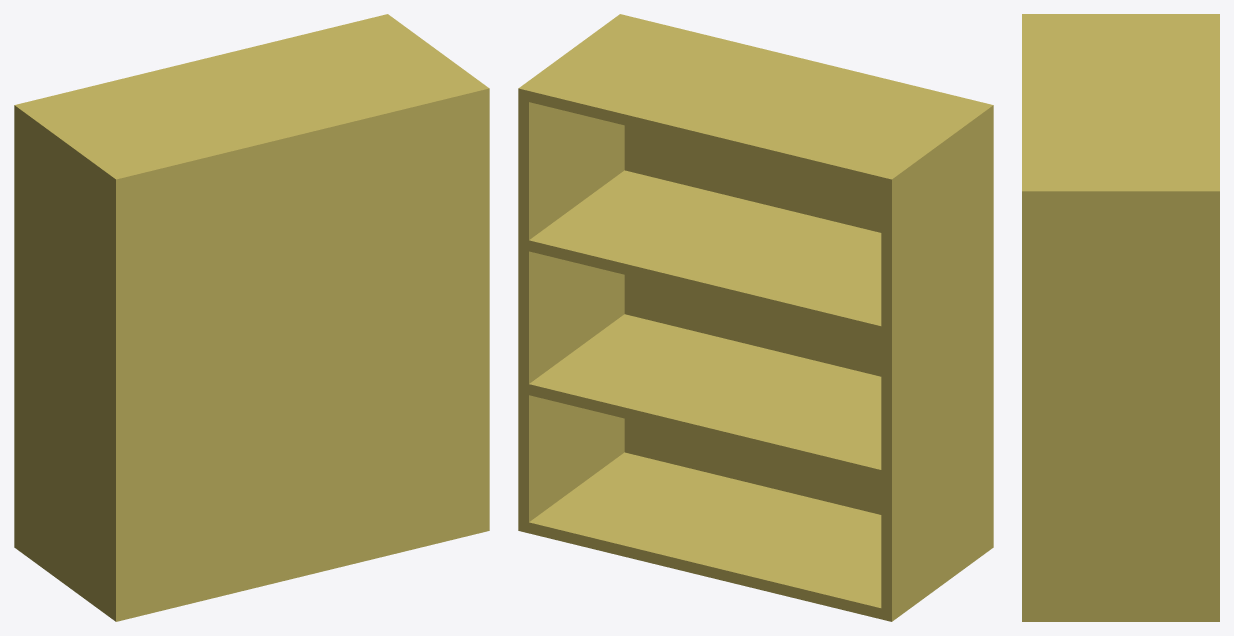
Rendered from openShelf.dae.
The picture shows the model from 3 angles, left to right: view 1: azimuth 30°, elevation 25°; view 2: azimuth 150°, elevation 25°; view 3: azimuth 270°, elevation 25°; orthographic projection. The views are drawn at different scales.
Visible parts, largest first — view 1: openShelf; view 2: openShelf, openShelfCube; view 3: openShelf.
Part boxes in pixels (<box>): openShelf: <box>14,14,489,621</box>; openShelf: <box>518,14,993,621</box>; openShelfCube: <box>529,452,881,619</box>; openShelf: <box>1022,14,1219,621</box>.
Size of the model in its own units: 1.06 by 0.5 by 1.2.
